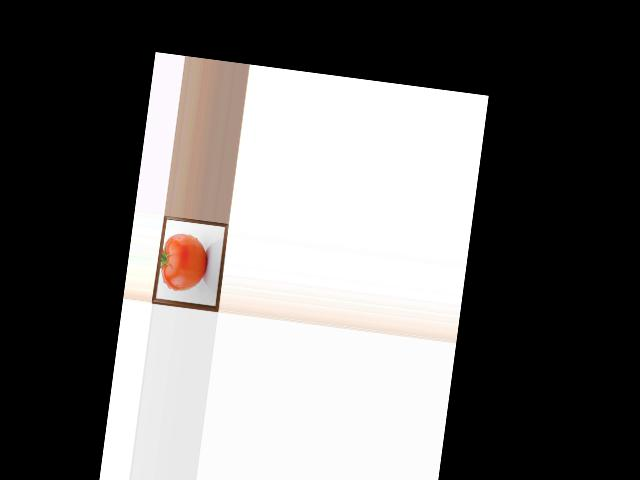tomato: (157, 231, 210, 294)
